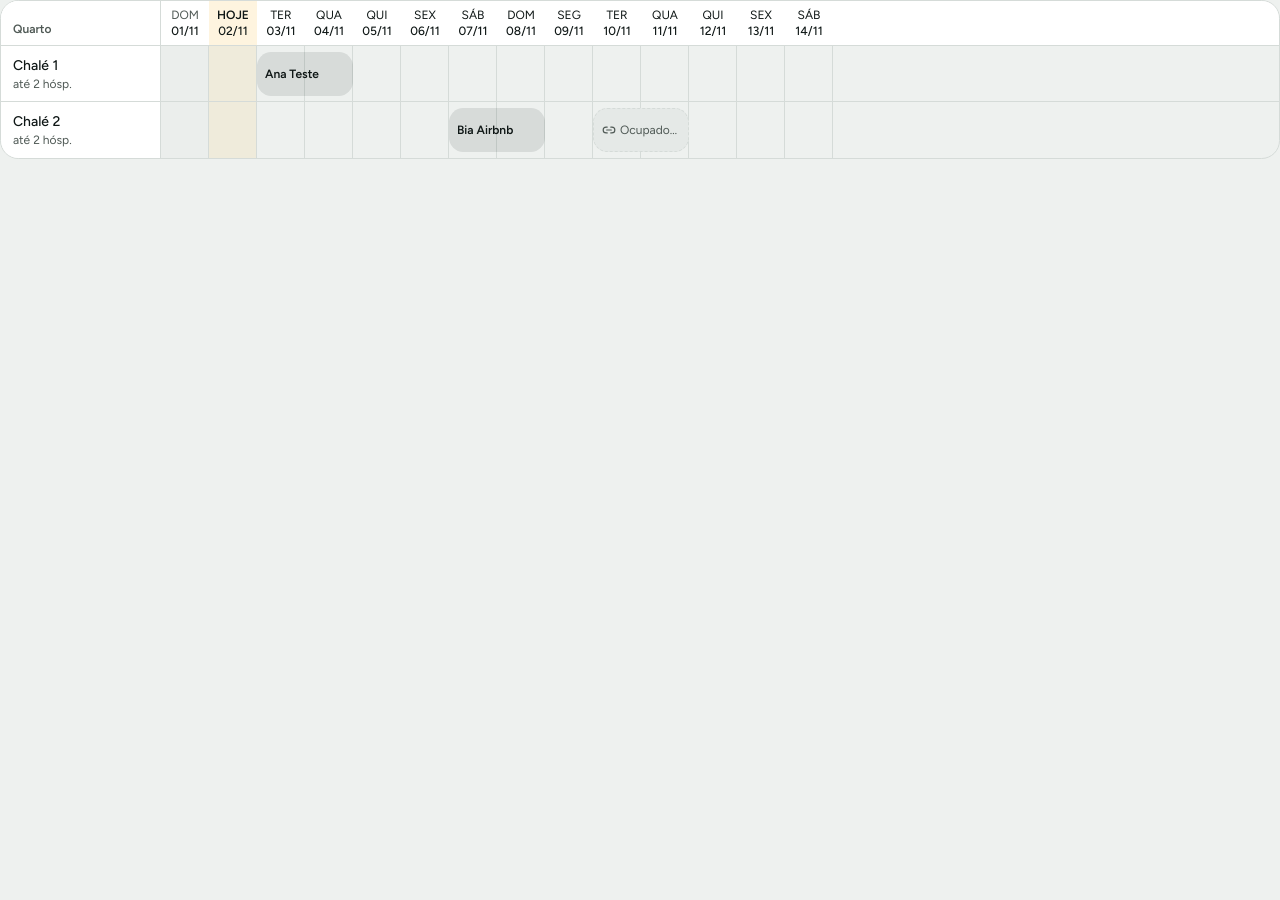
Test: mapa de ocupação › "Mover" pelo menu (celular/teclado): confirma mantendo o valor
Click the button with aria-label "Ana Teste, Chalé 1". click: (305, 74)
box: [257,52,353,96]
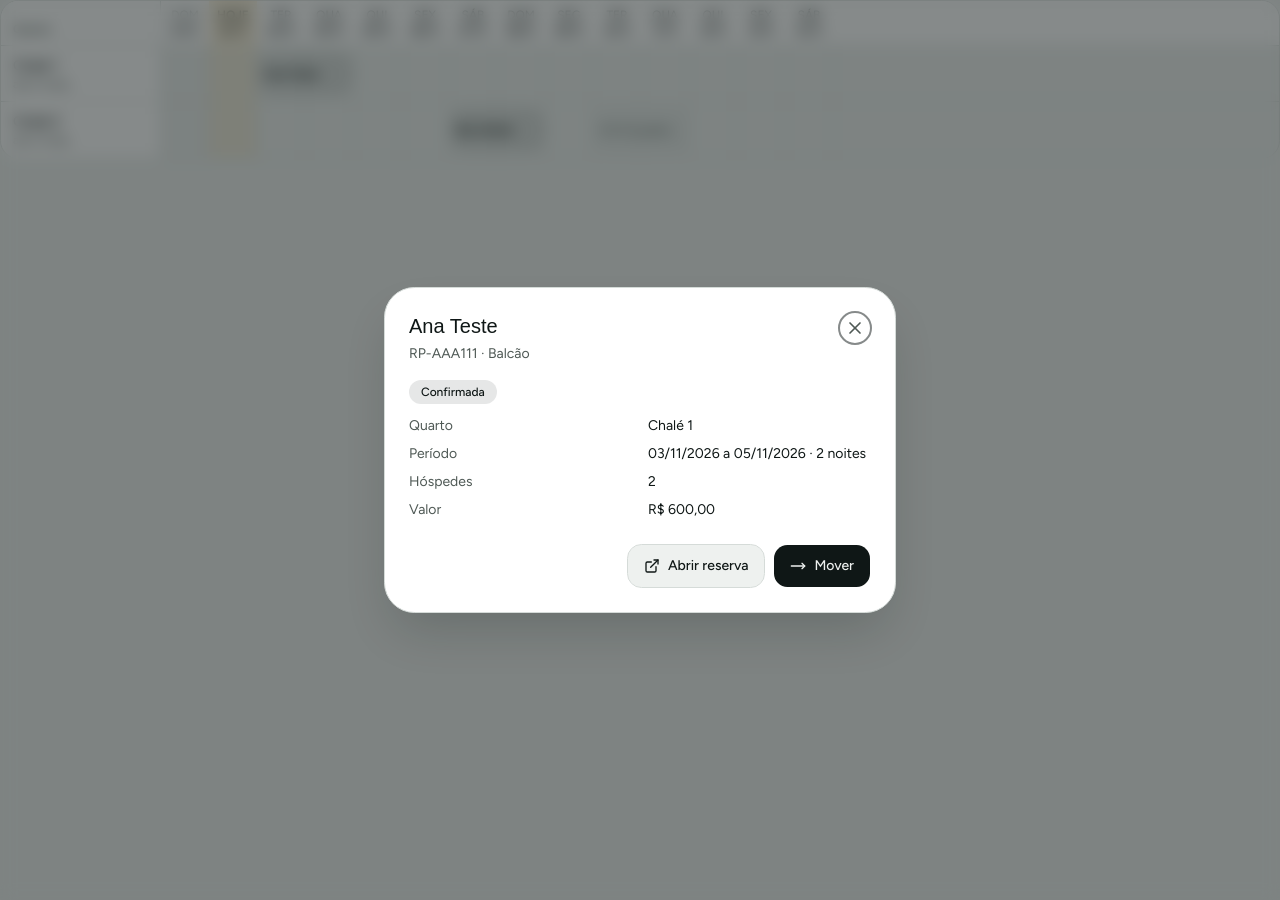
Click the button "Mover". click: (822, 566)
box: [773,544,871,588]
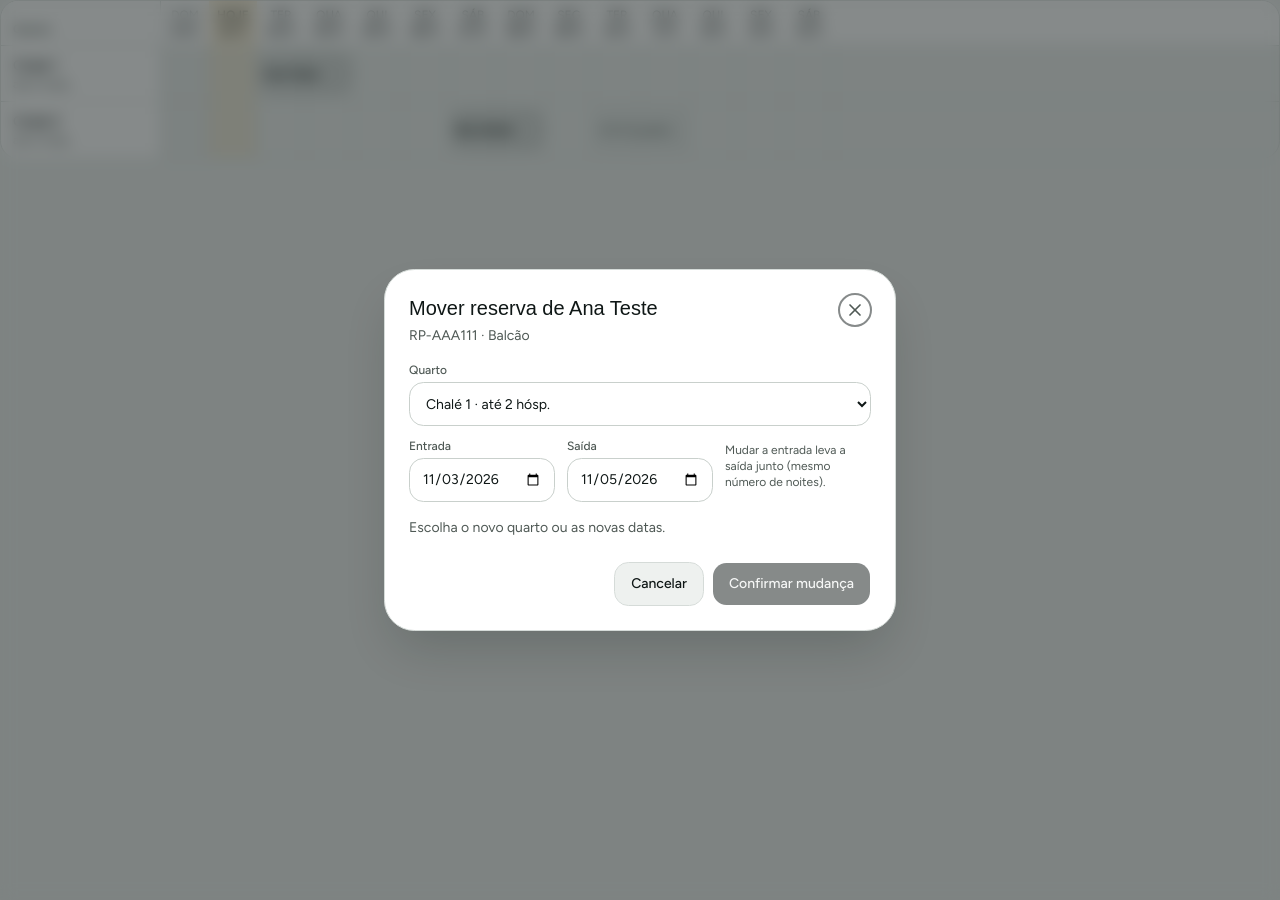
Select "Chalé 2 · até 2 hósp." in the dropdown. click: (640, 404)
box: [409,382,871,426]
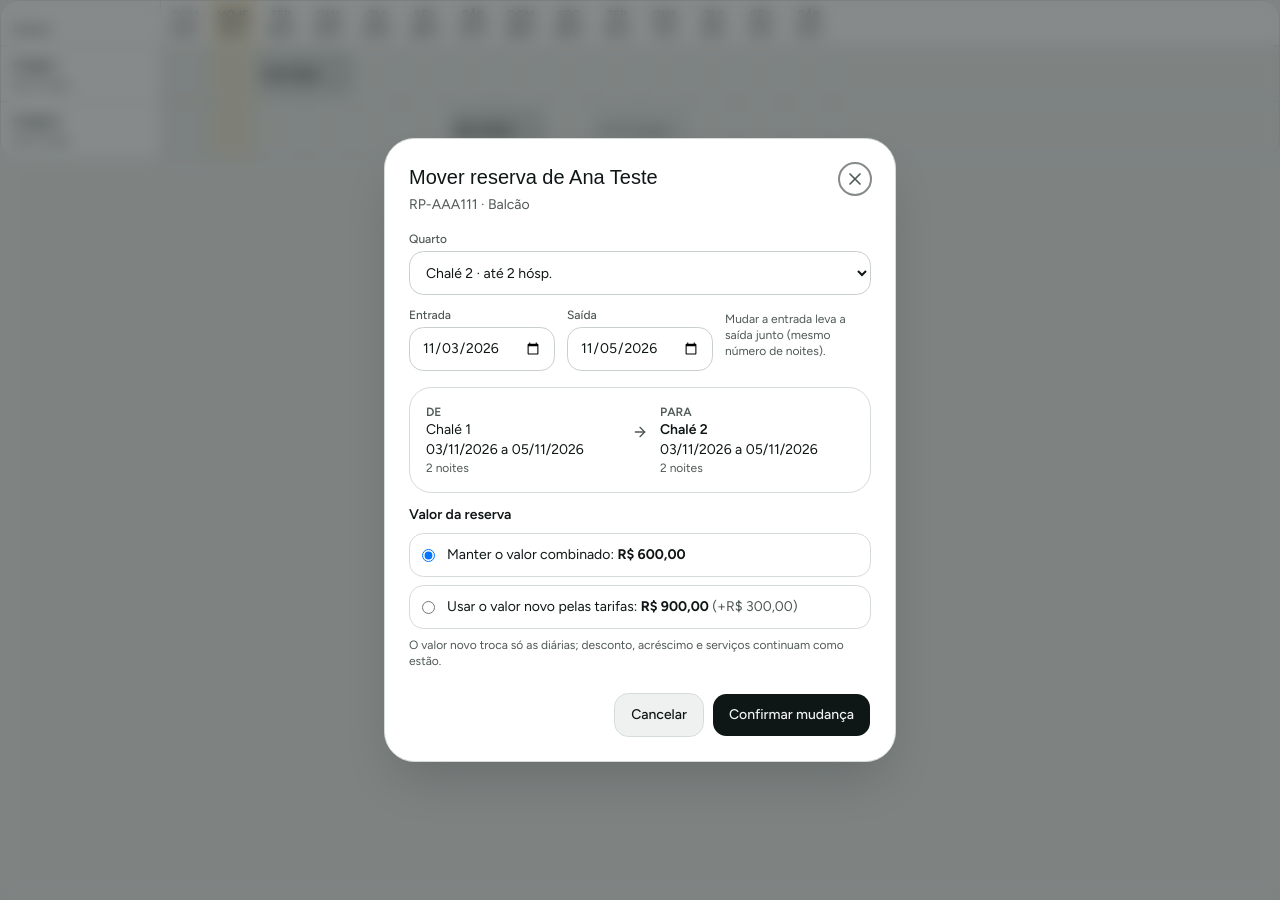
expect the text "Para" is shown: met, box [660,405,692,419]
expect the text "Usar o valor novo pelas tarifas: R$ 900,00 (+R$ 300,00)" is shown: met, box [447,597,798,617]
Click the button "Confirmar mudança". click: (791, 715)
box: [712,693,871,737]
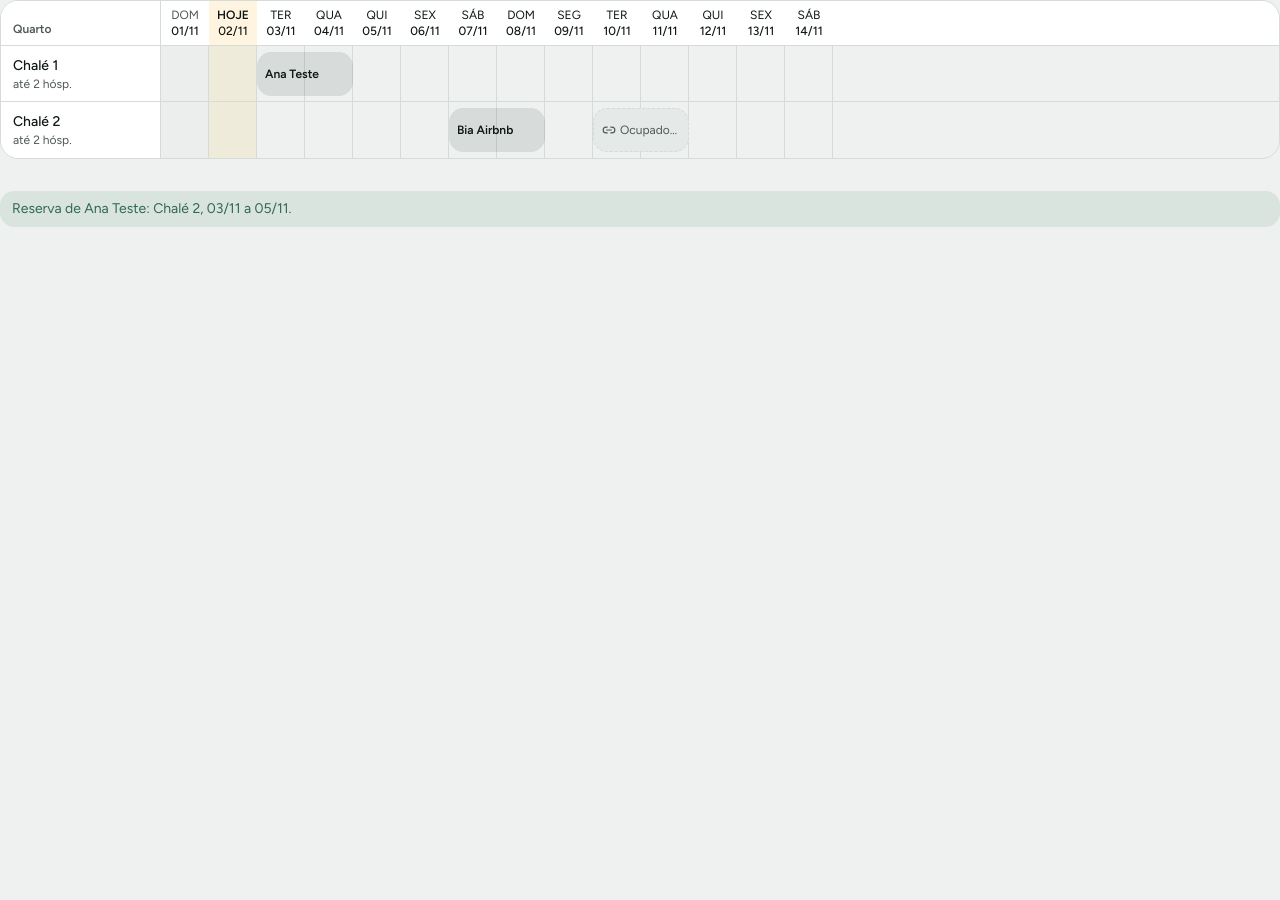
expect the message shows "Chalé 2": met, box [12,200,291,217]
